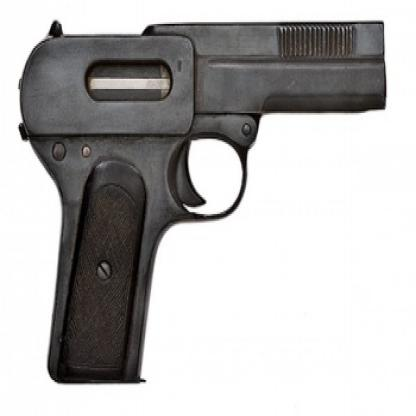Guns: (8, 7, 388, 392)
